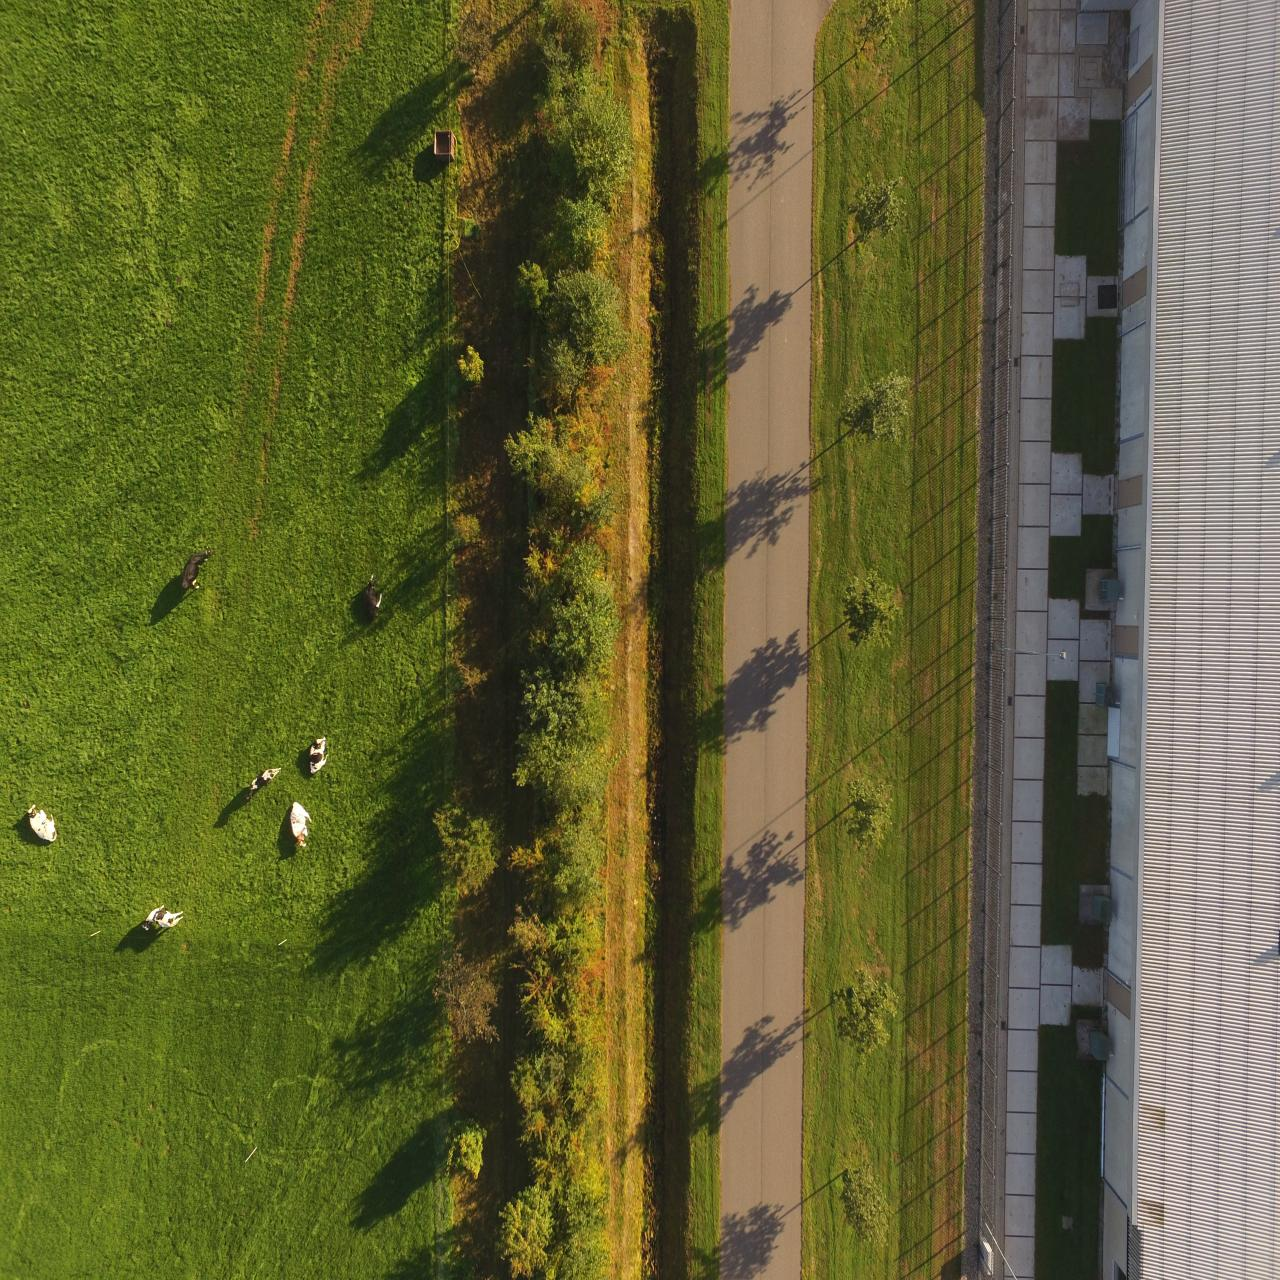cow: (177, 538, 215, 611), (21, 801, 70, 856), (282, 794, 319, 862), (135, 897, 185, 944), (305, 724, 331, 781), (361, 572, 383, 634), (252, 757, 282, 801)
